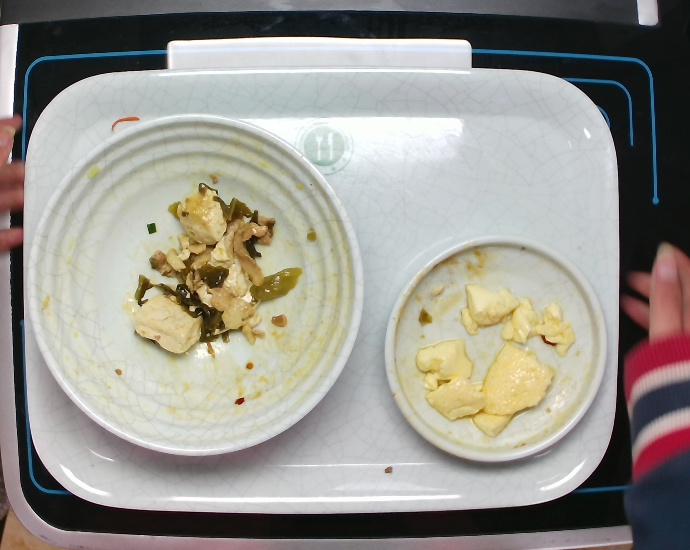JYsf-Da_Tang_Wan: (24, 115, 365, 459)
JYsf-Xiao_Yuan_Pan: (381, 232, 611, 464)
